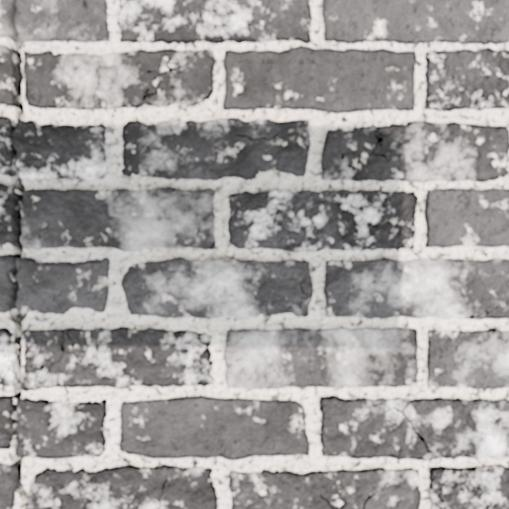brick: (223, 46, 415, 112), (22, 327, 213, 390), (22, 188, 214, 250), (120, 396, 308, 459), (320, 397, 508, 459), (225, 328, 417, 388), (23, 49, 214, 109), (122, 118, 309, 179), (227, 190, 417, 250), (321, 121, 508, 181), (122, 258, 312, 317), (325, 258, 508, 317), (117, 0, 311, 43), (27, 465, 216, 508), (323, 0, 508, 43), (229, 468, 420, 508), (426, 48, 508, 110), (425, 188, 508, 247), (428, 329, 508, 388), (467, 465, 508, 508), (442, 469, 486, 508), (0, 184, 15, 243), (0, 45, 13, 104), (0, 463, 16, 508), (429, 468, 445, 508), (0, 328, 12, 379), (479, 308, 508, 319), (4, 372, 14, 385), (399, 400, 406, 408)
broken_brick: (17, 397, 107, 459), (13, 119, 106, 179), (17, 257, 110, 314), (16, 0, 110, 43), (0, 115, 13, 176), (0, 253, 12, 313), (0, 395, 9, 449), (0, 0, 10, 38)
crack: (0, 0, 29, 508), (383, 399, 432, 454), (36, 328, 83, 374), (336, 127, 392, 160), (462, 468, 489, 508), (465, 296, 508, 319), (286, 279, 312, 310), (436, 467, 449, 508), (189, 211, 200, 247), (319, 493, 337, 508), (362, 492, 375, 508), (208, 241, 215, 249), (118, 13, 125, 16), (506, 280, 508, 288)
